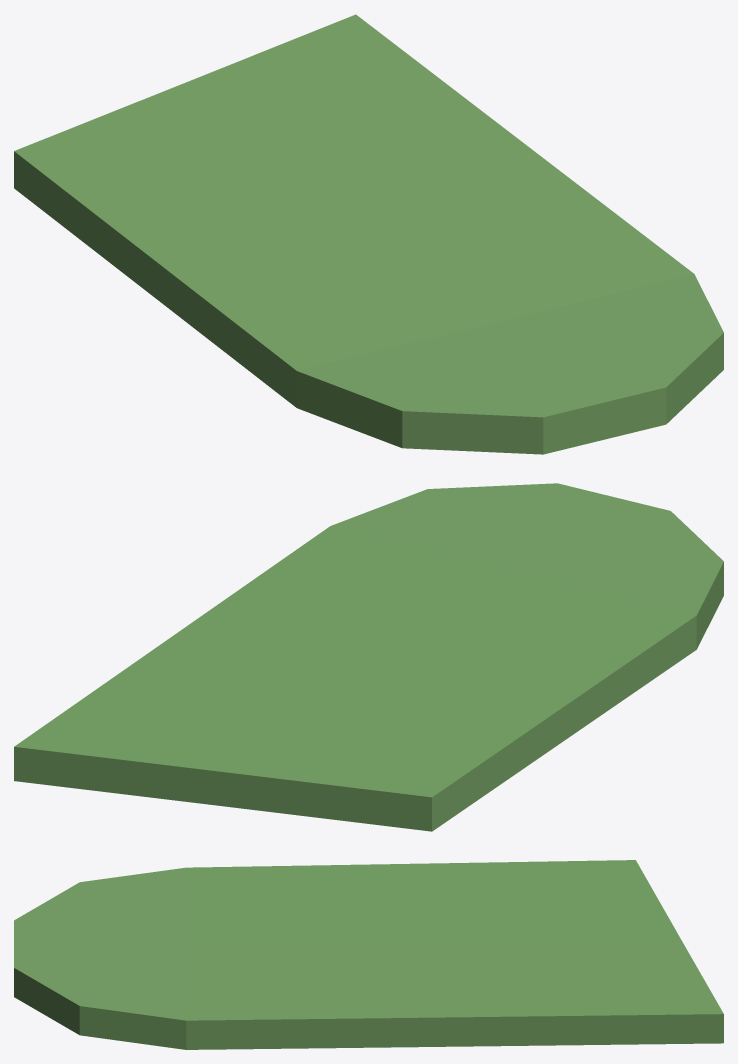
Rendered from glassground4.fbx.
3 views of the same model, one above another, from view 1: azimuth 30°, elevation 25°; view 2: azimuth 150°, elevation 25°; view 3: azimuth 270°, elevation 25° (orthographic). The views are drawn at different scales.
Visible parts, largest first — view 1: pCylinder7; view 2: pCylinder7; view 3: pCylinder7.
Part boxes in pixels (box(x1,y1,x2,y2)): pCylinder7: box(14, 14, 723, 454); pCylinder7: box(14, 483, 723, 831); pCylinder7: box(14, 860, 723, 1049).
Bounding box in the file's own units: 2.01 × 0.2302 × 3.92.
